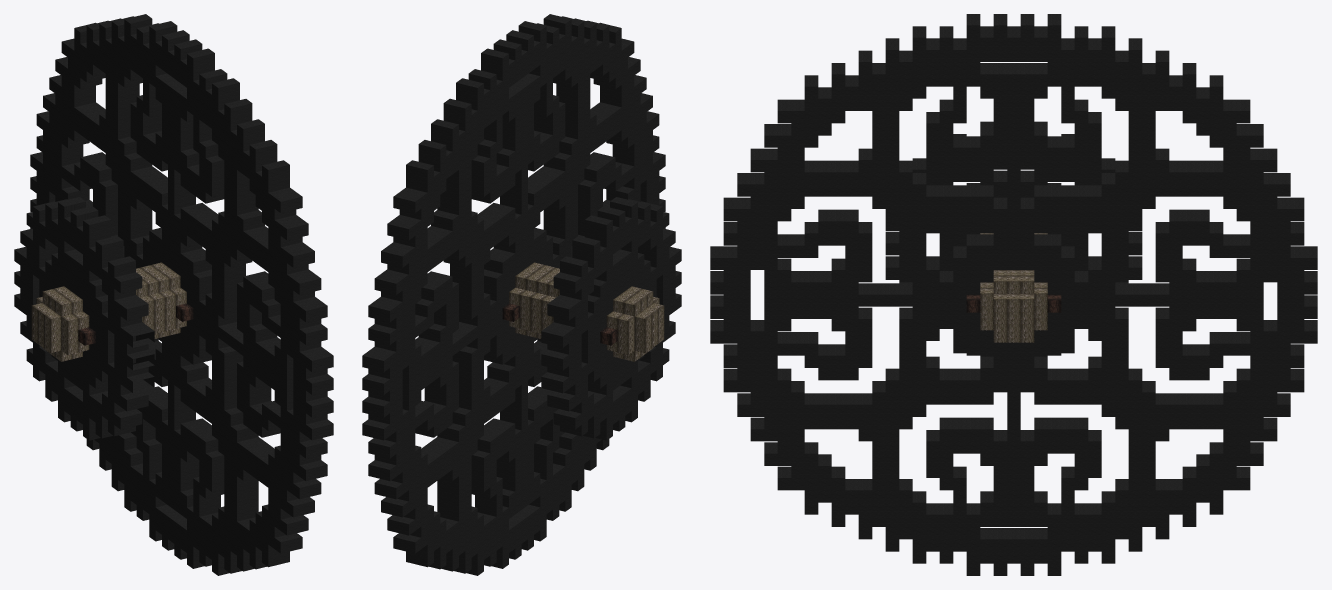
File: biggear.fbx
3 views of the same model, side by side, from view 1: azimuth 30°, elevation 25°; view 2: azimuth 150°, elevation 25°; view 3: azimuth 270°, elevation 25° (orthographic). The views are drawn at different scales.
Parts seen in each view (by area): view 1: biggear; view 2: biggear; view 3: biggear.
Boxes of the visible parts, x1=… form: biggear: x1=14, y1=14, x2=333, y2=575; biggear: x1=362, y1=14, x2=681, y2=575; biggear: x1=710, y1=14, x2=1317, y2=575.
Bounding box in the file's own units: 1700 × 4500 × 4500.
Materials: 3 (3 with a texture image).
